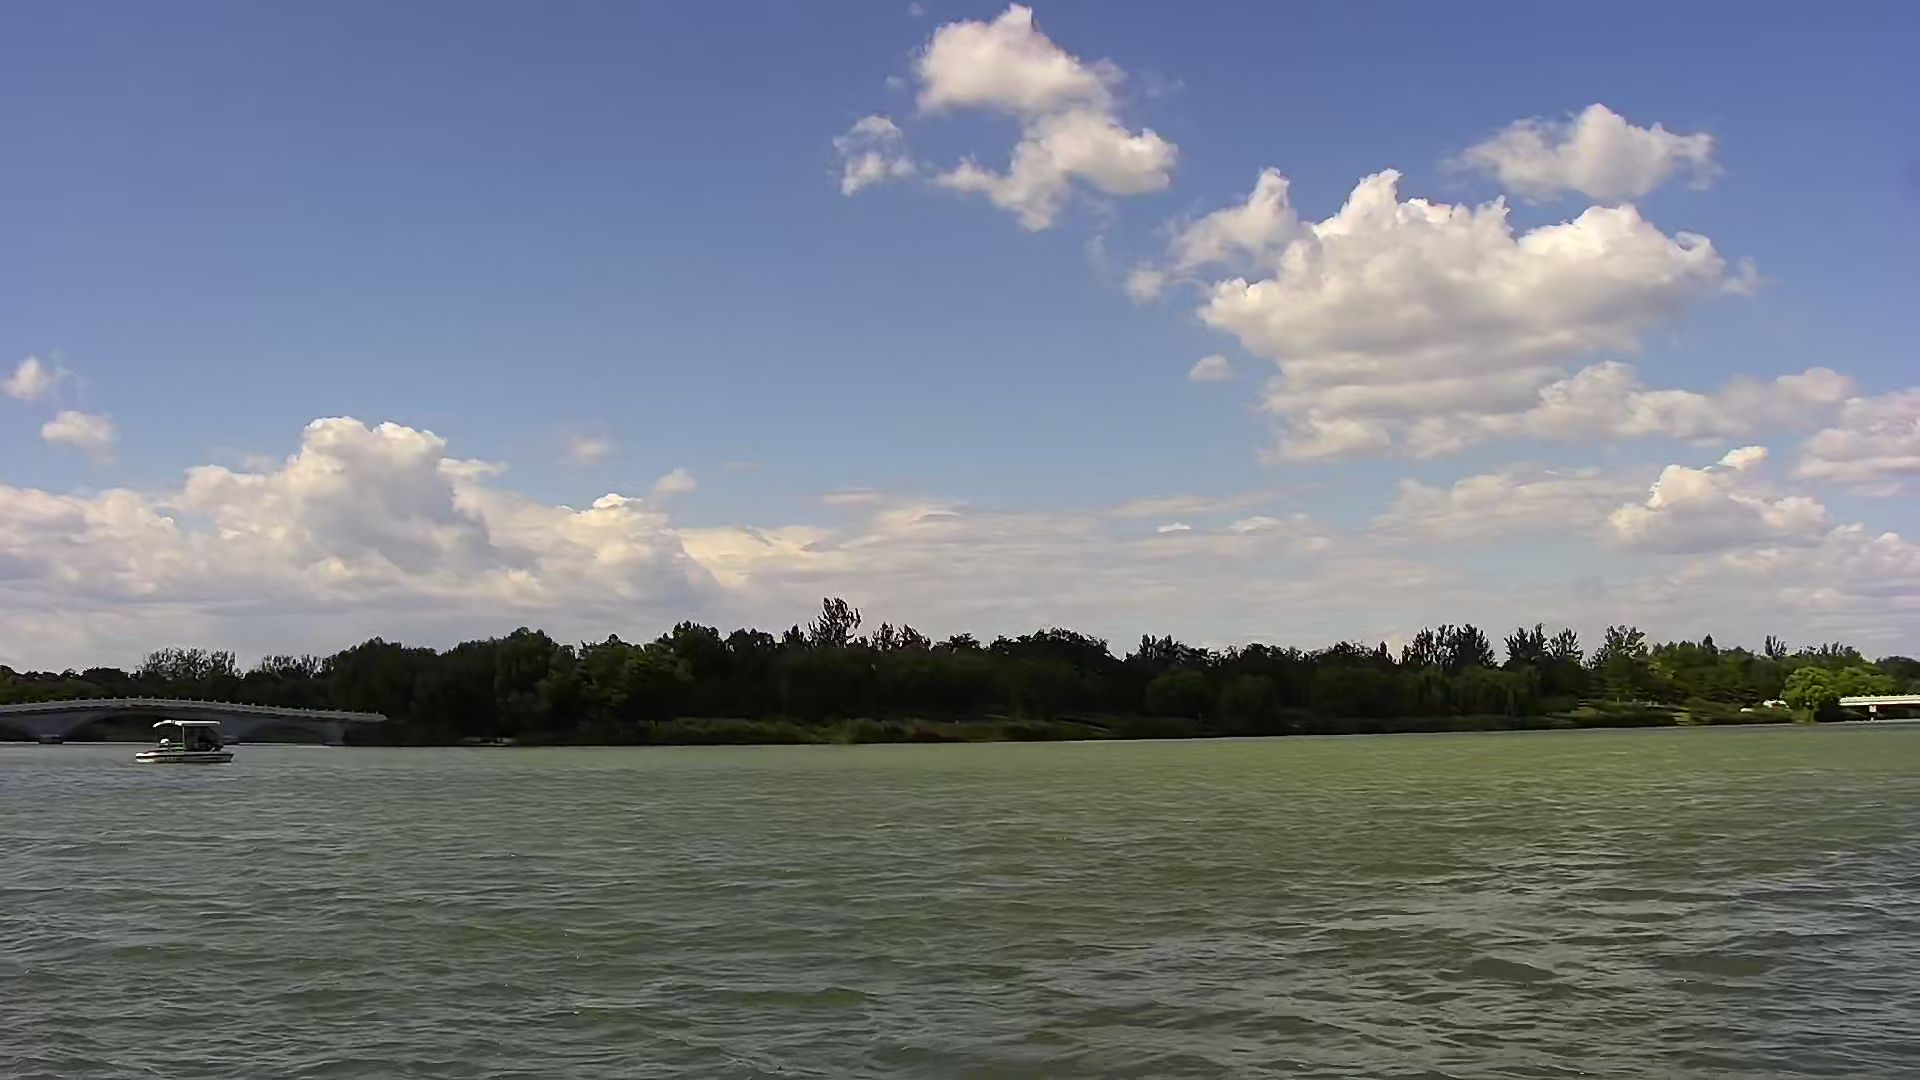boat: (135, 716, 233, 765)
bridge: (11, 694, 396, 754), (1830, 688, 1920, 725)
